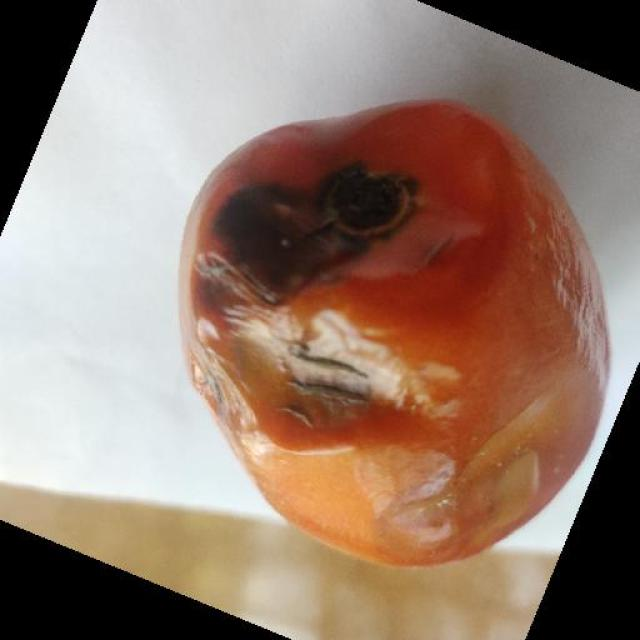Stale_tomato: (156, 119, 632, 557)
